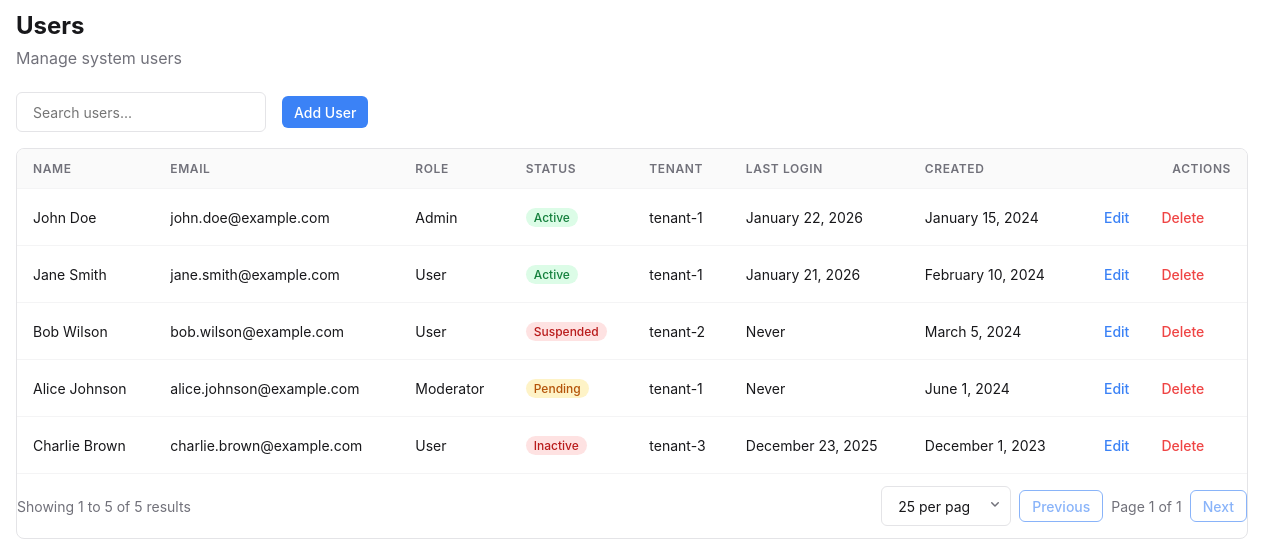
Test case: Users › should filter users on search
Type "Jane" into the field with test id "table-search". click: (141, 112)
box: x1=16 y1=92 x2=266 y2=132
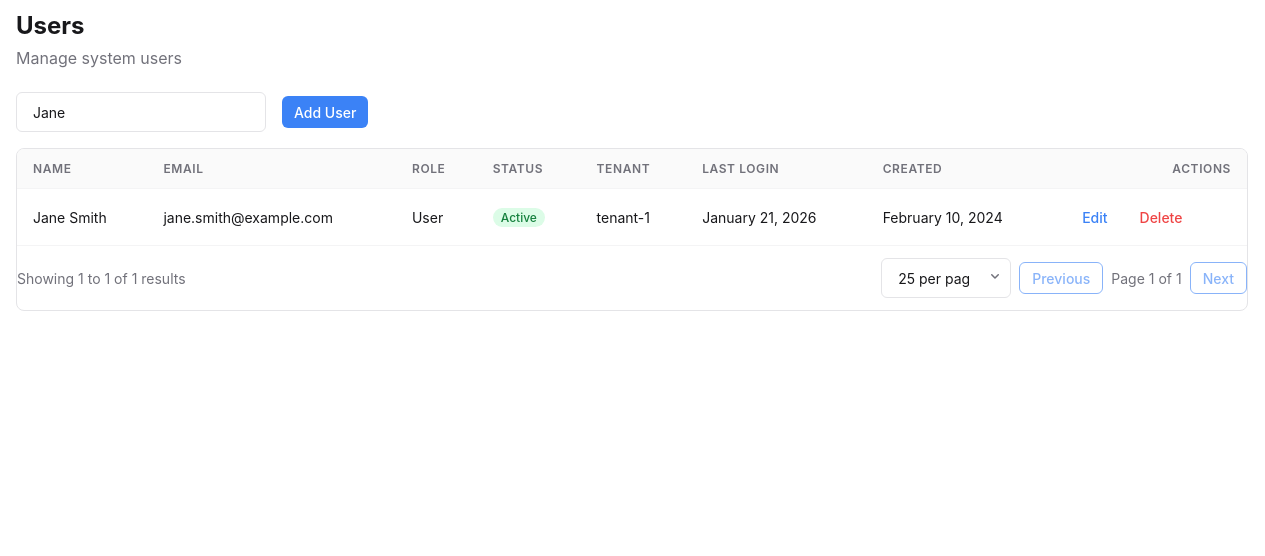
Expected: the text "Jane Smith" is shown, x1=17 y1=188 x2=147 y2=246
Now the text "John Doe" is gone
